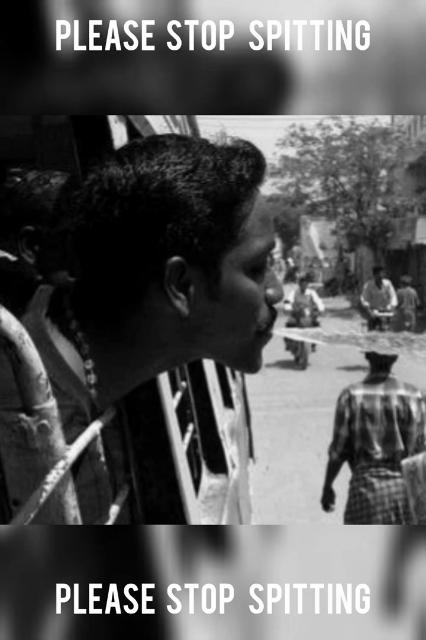spit: (107, 210, 426, 385)
